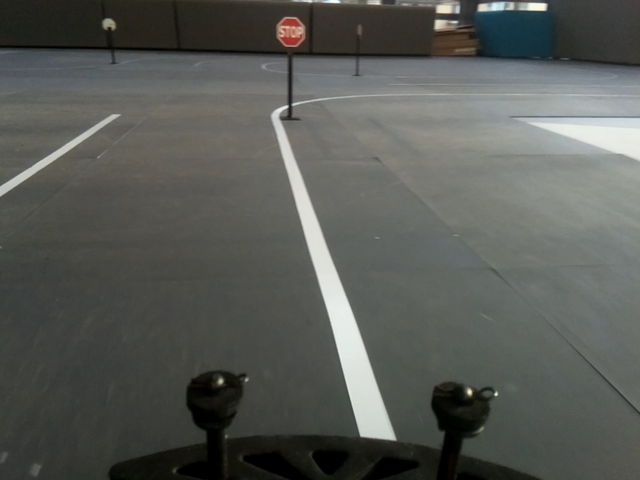stop: (277, 15, 305, 46)
